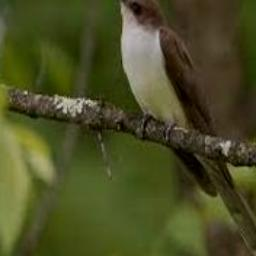Cuckoo: (106, 0, 256, 256)
